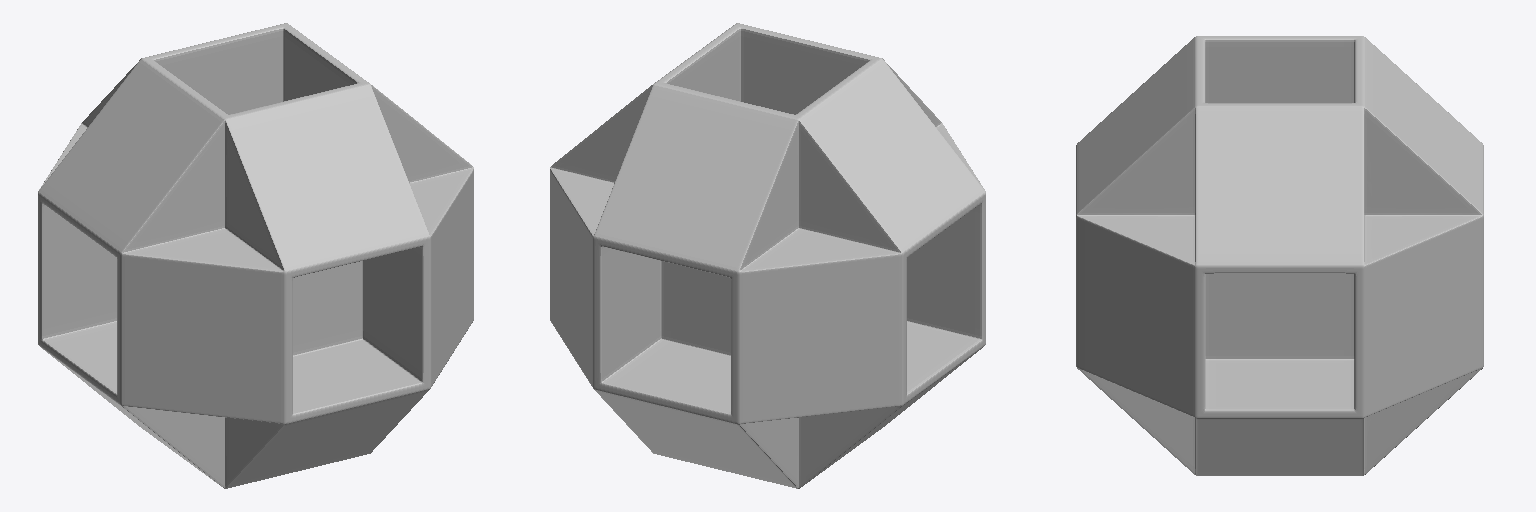
The model's file is 20259_Small_rhombihexahedron_v1.obj.
The picture shows the model from 3 angles: view 1: azimuth 30°, elevation 25°; view 2: azimuth 150°, elevation 25°; view 3: azimuth 270°, elevation 25°; orthographic projection.
Visible parts, largest first — view 1: 20259_Small_rhombihexahedron_v1; view 2: 20259_Small_rhombihexahedron_v1; view 3: 20259_Small_rhombihexahedron_v1.
Boxes of the visible parts, x1,y1,x2,y2 form: 20259_Small_rhombihexahedron_v1: [38, 23, 473, 488]; 20259_Small_rhombihexahedron_v1: [550, 23, 985, 488]; 20259_Small_rhombihexahedron_v1: [1076, 36, 1483, 475].
Bounding box in the file's own units: 99.88 × 99.88 × 99.88.